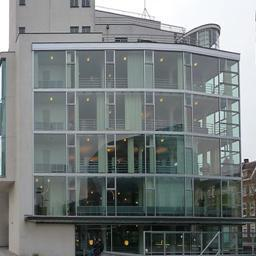building: (9, 0, 242, 256)
